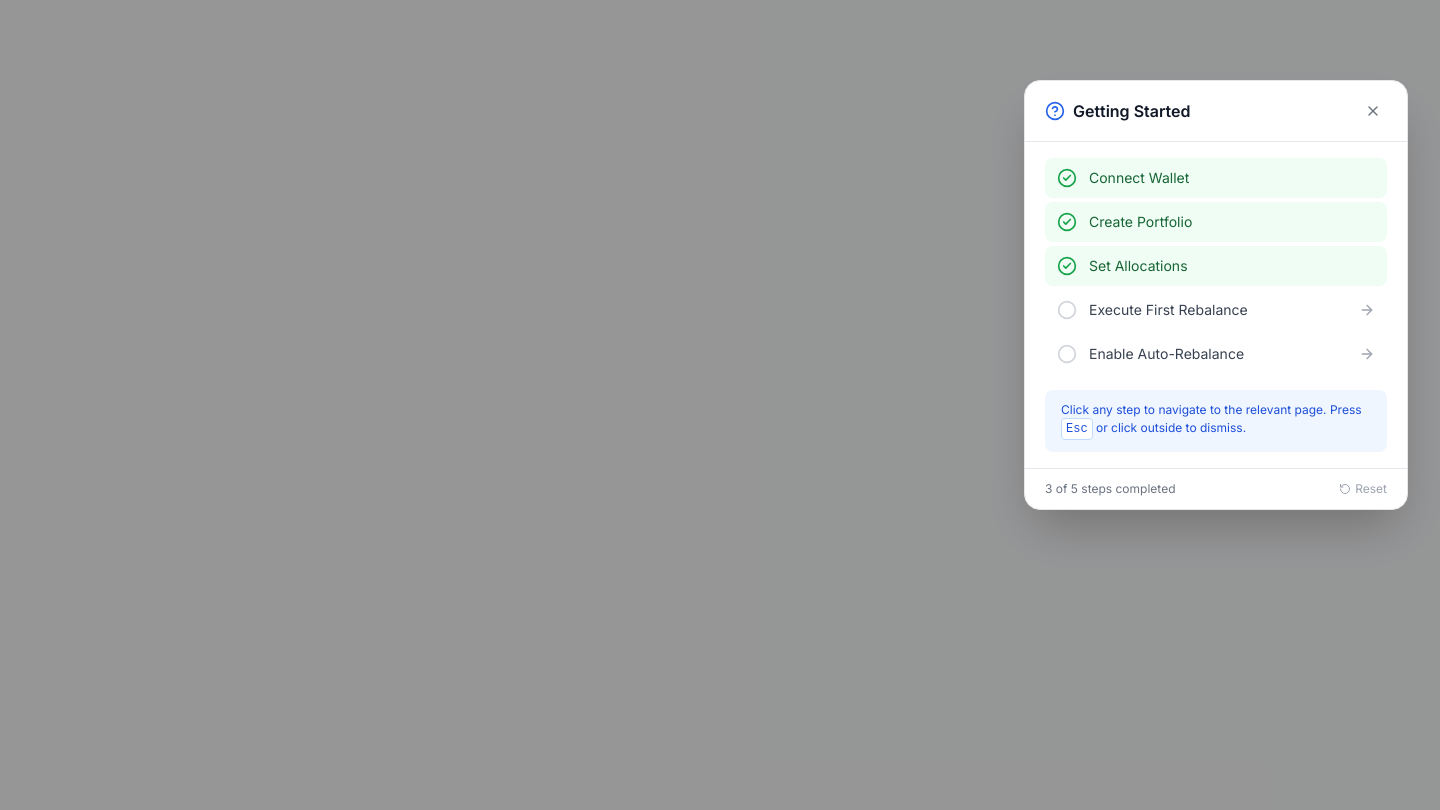
Scenario: OnboardingChecklist › reset progress clears completed items
Check: the dialog named "onboarding checklist" is shown, box [1024,80,1408,510]
Check: the text "3 of 5 steps completed" is shown, box [1045,481,1176,497]
Click the button titled "Reset onboarding progress": (1363,489) [1339,481,1387,497]
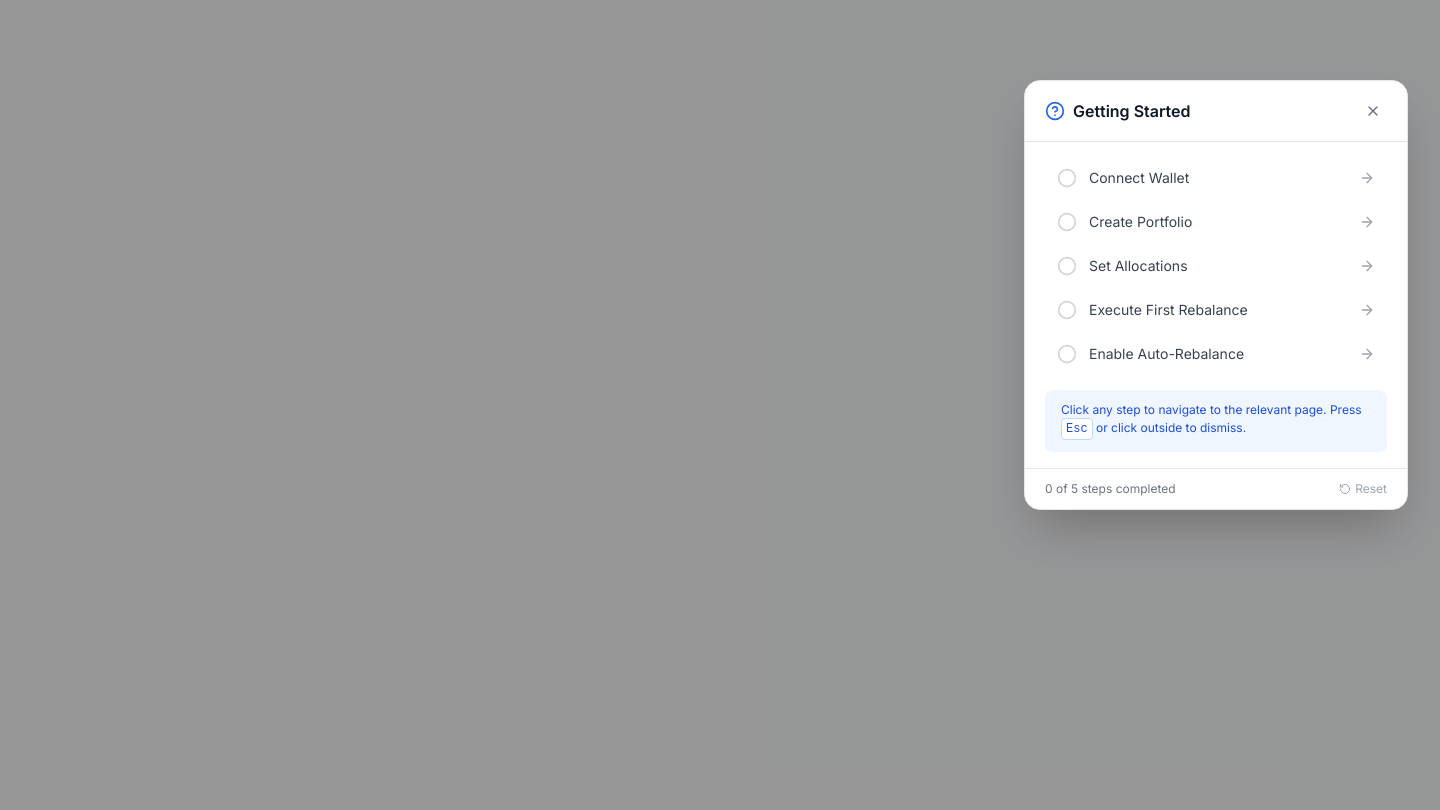
Check: the text "0 of 5 steps completed" is shown, box [1045,481,1176,497]
